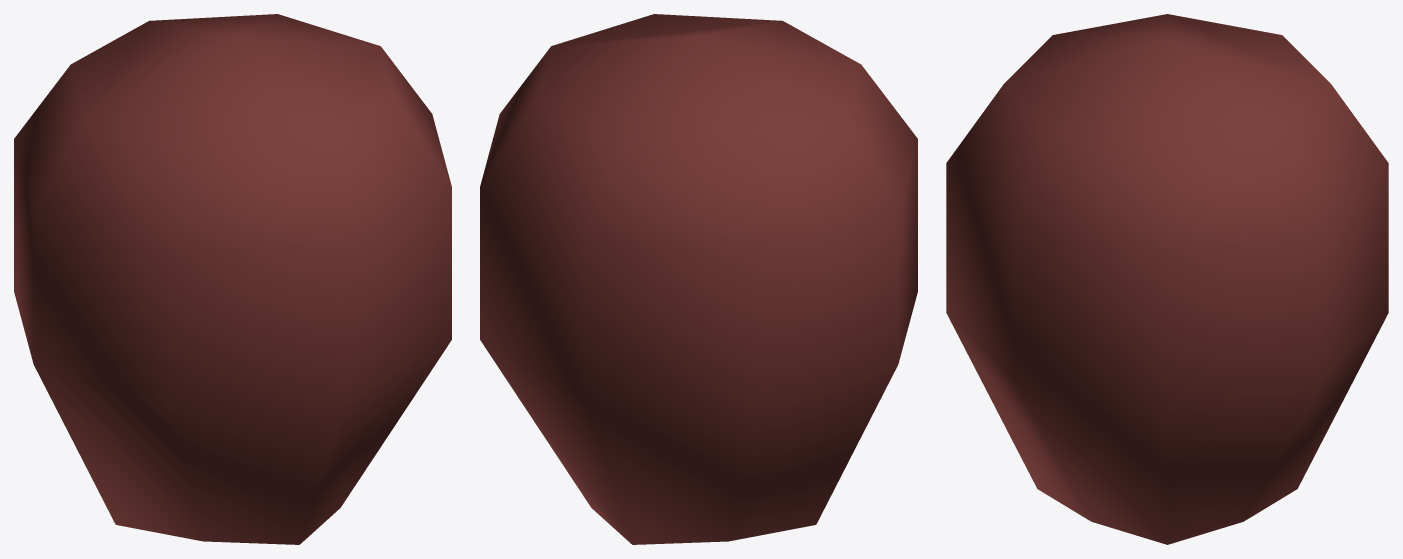
File: Buah_Sawit_Masak_LowMesh.gltf
The picture shows the model from 3 angles, left to right: view 1: azimuth 30°, elevation 25°; view 2: azimuth 150°, elevation 25°; view 3: azimuth 270°, elevation 25°; orthographic projection. The views are drawn at different scales.
Parts seen in each view (by area): view 1: Cube.001; view 2: Cube.001; view 3: Cube.001.
Part boxes in pixels (x1,y1,x2,y2): Cube.001: (14, 14, 451, 544); Cube.001: (480, 14, 917, 544); Cube.001: (946, 14, 1388, 544).
Bounding box in the file's own units: 0.4138 × 0.5001 × 0.4069.
